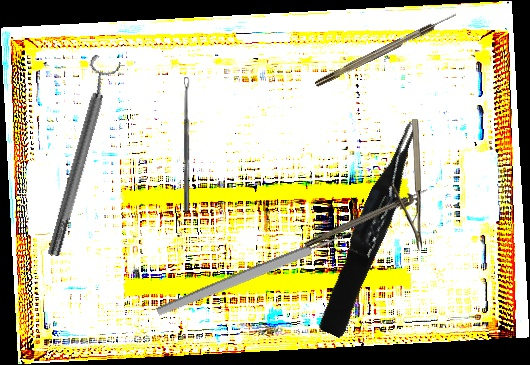Fixation Ring: (36, 53, 124, 260)
Hook Surgical: (313, 11, 459, 88), (303, 186, 430, 249)
Needle Holder: (391, 119, 422, 251)
Surgical Spoon: (154, 217, 379, 319), (184, 77, 190, 213)
Tissue Forceps: (308, 118, 438, 339)
